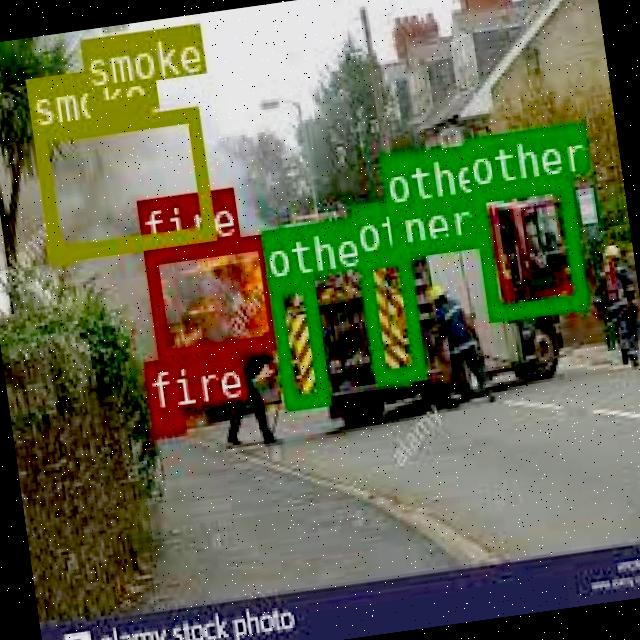fire: (143, 234, 280, 362), (148, 407, 183, 433)
smoke: (30, 106, 214, 260), (79, 28, 157, 112)
